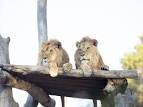lion: (39, 38, 67, 86), (76, 38, 109, 77)
